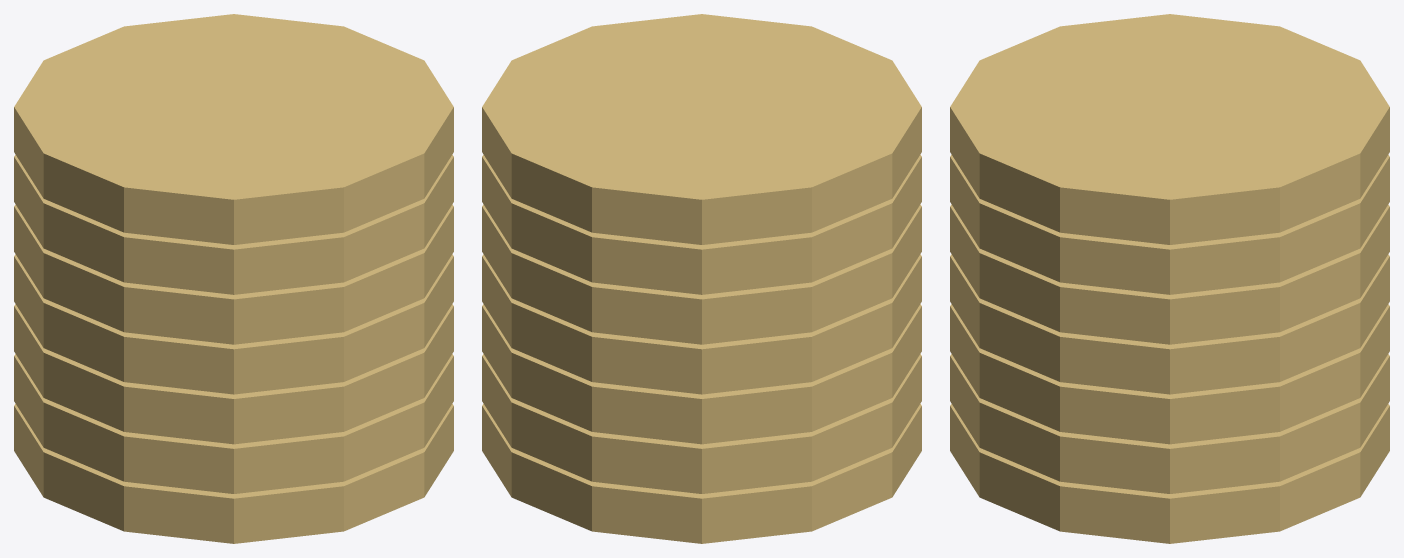
File: dungeon-room-builder-coin-stack-950c04e5__25840.glb
3 views of the same model, side by side, from view 1: azimuth 30°, elevation 25°; view 2: azimuth 150°, elevation 25°; view 3: azimuth 270°, elevation 25° (orthographic).
Parts seen in each view (by area): view 1: coin-stack; view 2: coin-stack; view 3: coin-stack.
Boxes of the visible parts, bbox=[...] form: coin-stack: bbox=[14, 14, 453, 543]; coin-stack: bbox=[482, 14, 921, 543]; coin-stack: bbox=[950, 14, 1389, 543].
Bounding box in the file's own units: 0.44 × 0.38 × 0.44.
